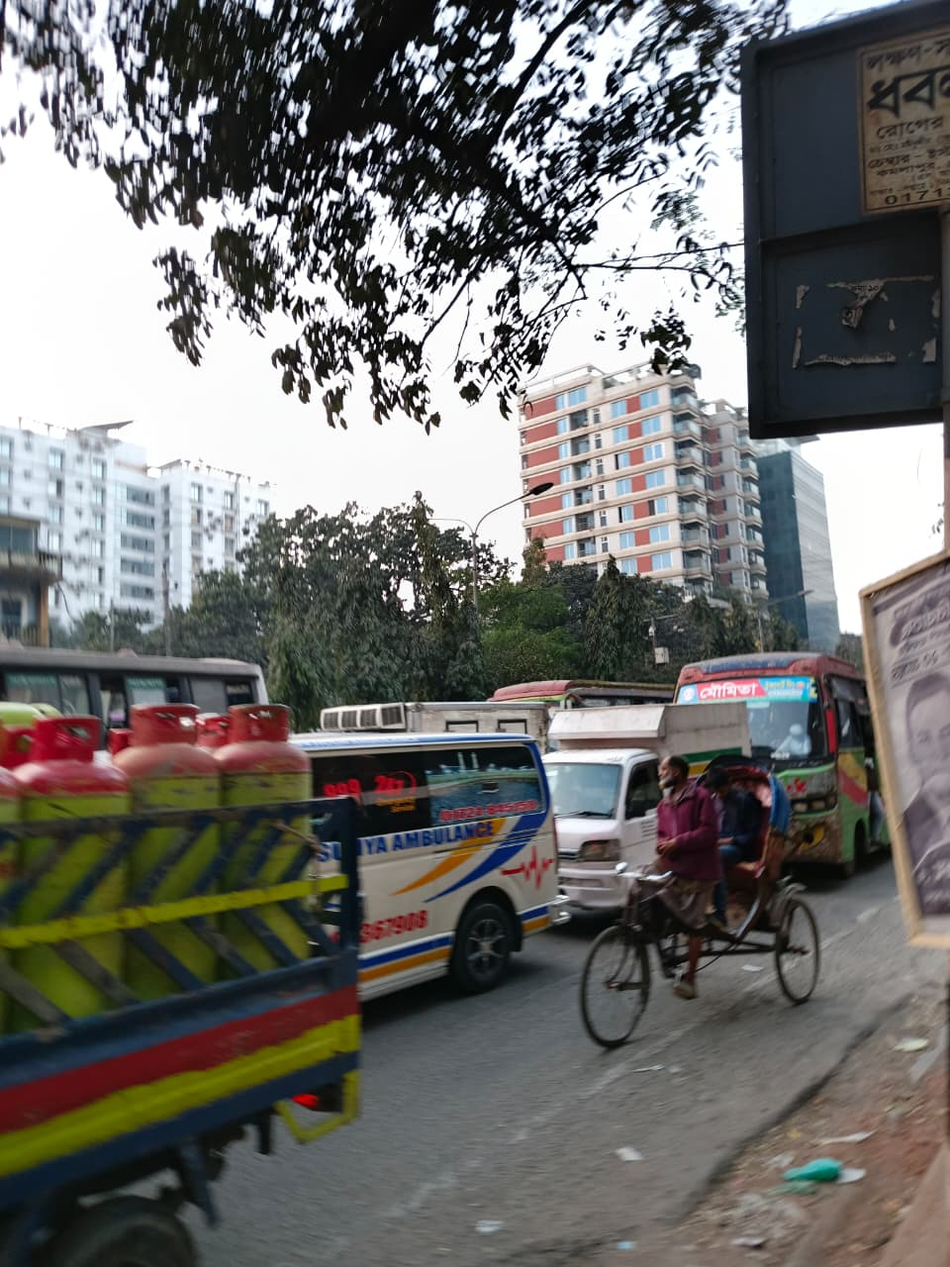Ambulance: (261, 687, 576, 1016)
Bus: (650, 648, 902, 873)
Pickup: (3, 687, 383, 1267)
auto-ricksaw: (567, 727, 838, 1060)
